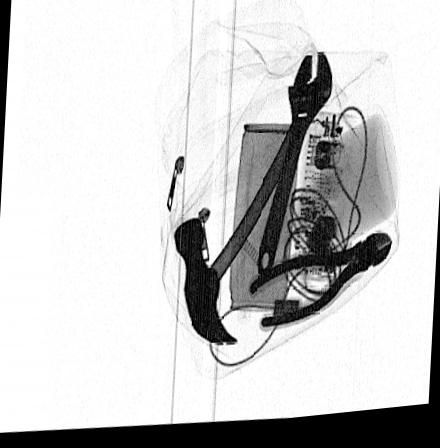Hammer: (172, 119, 304, 356)
Pliers: (247, 240, 392, 337)
Wrench: (255, 58, 331, 281)
